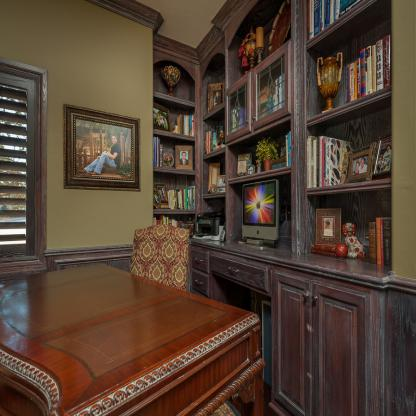book: (346, 35, 392, 103), (305, 0, 366, 43), (307, 133, 352, 188), (257, 73, 285, 122), (270, 128, 292, 170), (167, 184, 195, 212), (375, 214, 389, 266), (170, 113, 196, 136), (204, 130, 226, 156), (230, 104, 248, 135), (154, 214, 186, 229), (366, 219, 376, 264), (384, 215, 392, 271), (154, 136, 162, 168)
